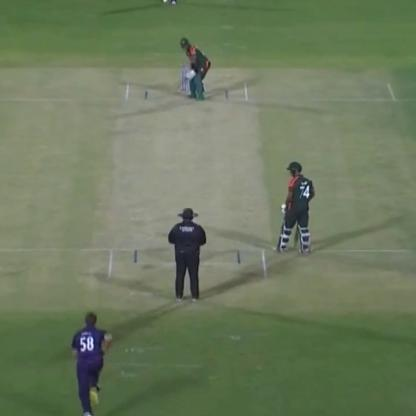bat: (177, 55, 195, 100)
pitch: (102, 71, 272, 292)
